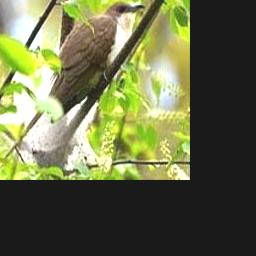Cuckoo: (6, 1, 145, 157)
